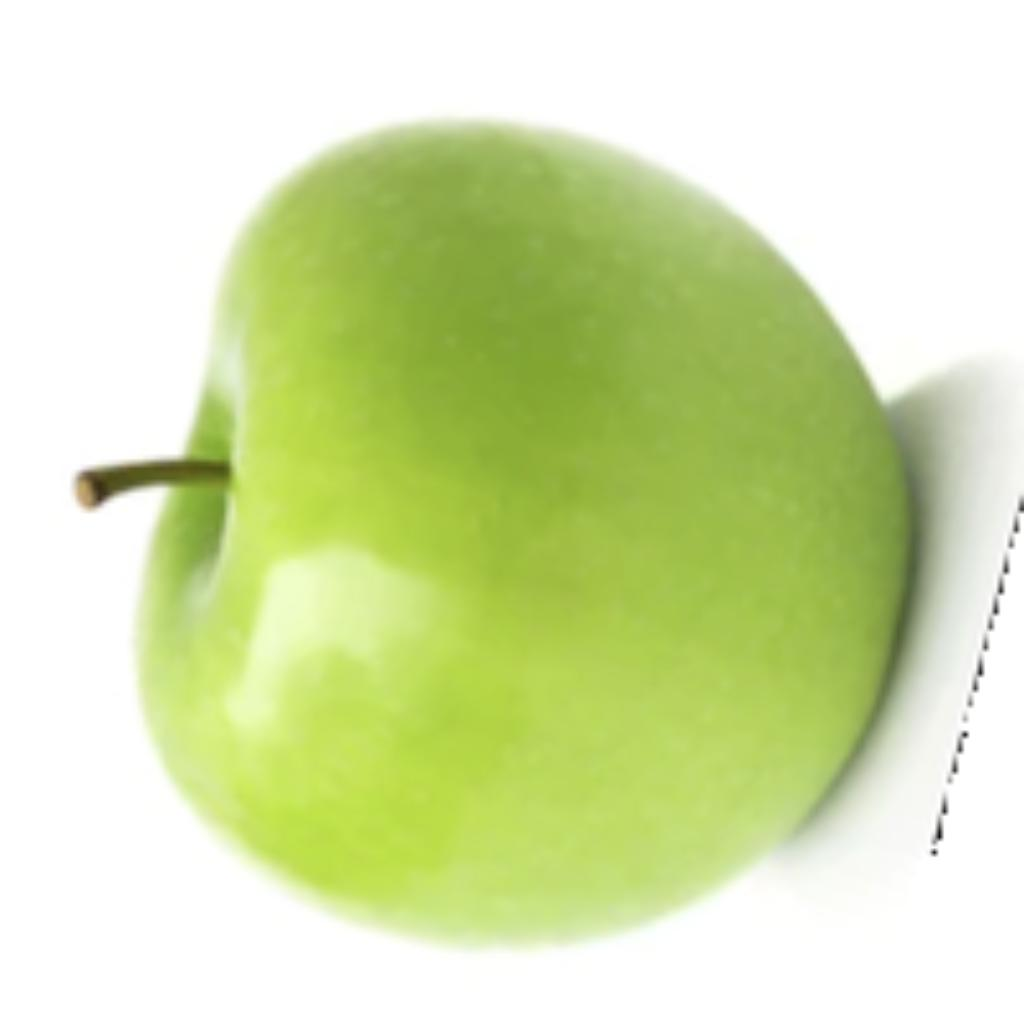apple: (67, 108, 1019, 952)
